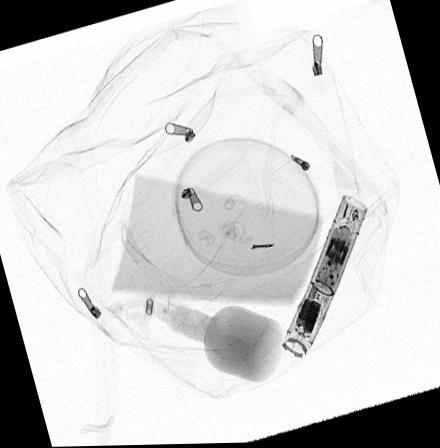Baton: (281, 196, 367, 360)
